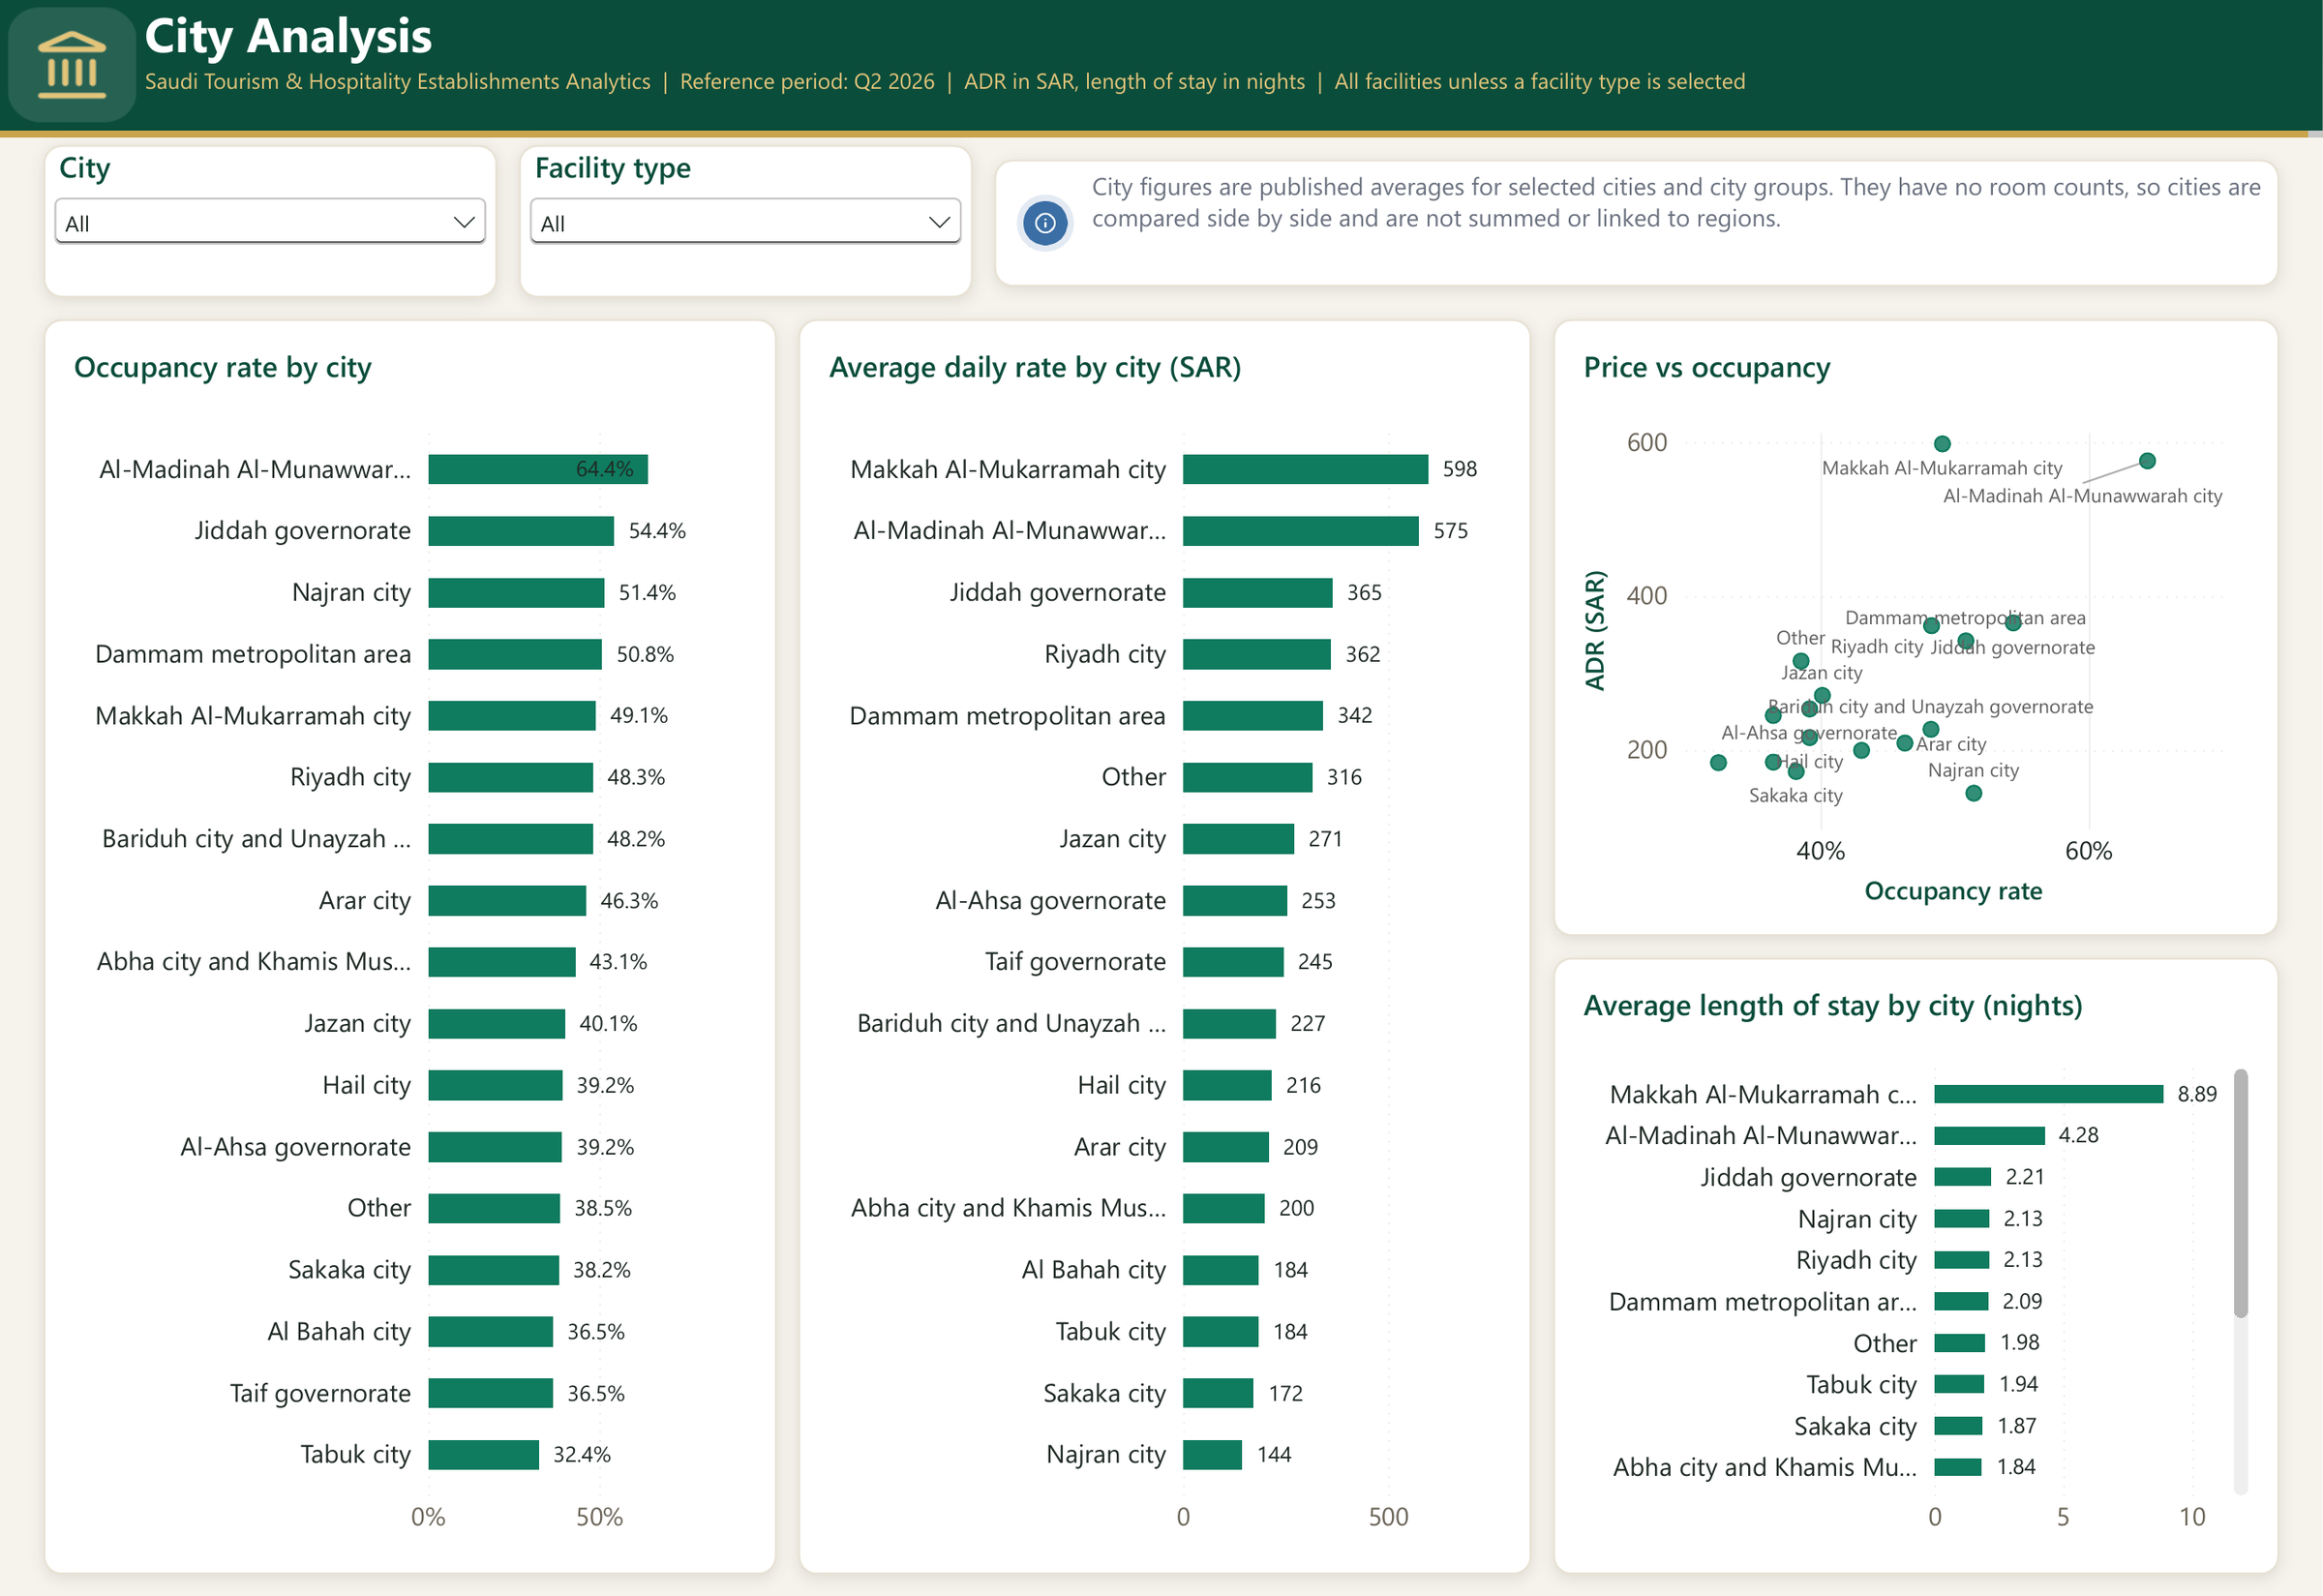

This screenshot's page, from the dashboard's own definition file:
{"tool":"powerbi","page":{"name":"City Analysis","canvas":[1280,880],"ordinal":2},"visuals":[{"type":"textbox","box":[80,0,1200,72],"z":0},{"type":"image","box":[0,0,80,72],"z":1},{"type":"textbox","box":[0,72,1280,4],"z":2},{"type":"slicer","fields":{"Values":["Dim_City.City"]},"box":[24,80,250,84],"z":1000},{"type":"slicer","fields":{"Values":["Dim_Facility_Type.Facility_Type"]},"box":[286,80,250,84],"z":2000},{"type":"textbox","box":[548,88,708,70],"z":2998},{"type":"textbox","box":[602,94,646,58],"z":3000},{"type":"image","box":[560,107,32,32],"z":3001},{"type":"clusteredBarChart","title":"Occupancy rate by city","fields":{"Category":["Dim_City.City"],"Y":["_Measures.City Occupancy Rate"]},"box":[24,176,404,692],"z":4000},{"type":"clusteredBarChart","title":"Average daily rate by city (SAR)","fields":{"Category":["Dim_City.City"],"Y":["_Measures.City ADR (SAR)"]},"box":[440,176,404,692],"z":5000},{"type":"scatterChart","title":"Price vs occupancy","fields":{"Category":["Dim_City.City"],"X":["_Measures.City Occupancy Rate"],"Y":["_Measures.City ADR (SAR)"]},"box":[856,176,400,340],"z":6000},{"type":"clusteredBarChart","title":"Average length of stay by city (nights)","fields":{"Category":["Dim_City.City"],"Y":["_Measures.City Length of Stay (nights)"]},"box":[856,528,400,340],"z":7000}]}

Visuals, with their boxes in screenshot pixels (x1, y1, x2, y2), scaled from the page's 1280x880 canvas onto the 2323x1596 screenshot:
textbox: 145 0 2322 131
image: 0 0 145 131
textbox: 0 131 2322 137
slicer - Dim_City.City: 44 145 498 297
slicer - Dim_Facility_Type.Facility_Type: 519 145 973 297
textbox: 995 160 2279 286
textbox: 1093 170 2265 276
image: 1016 195 1074 252
"Occupancy rate by city" clusteredBarChart: 44 319 776 1575
"Average daily rate by city (SAR)" clusteredBarChart: 799 319 1531 1575
"Price vs occupancy" scatterChart: 1554 319 2279 936
"Average length of stay by city (nights)" clusteredBarChart: 1554 957 2279 1575
